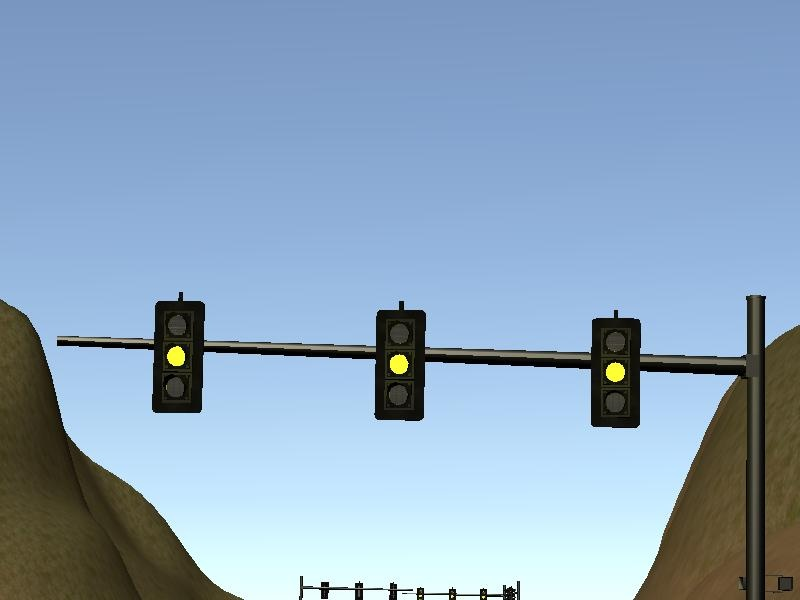YELLOW: (151, 290, 206, 415), (589, 309, 643, 430), (372, 300, 426, 421)
